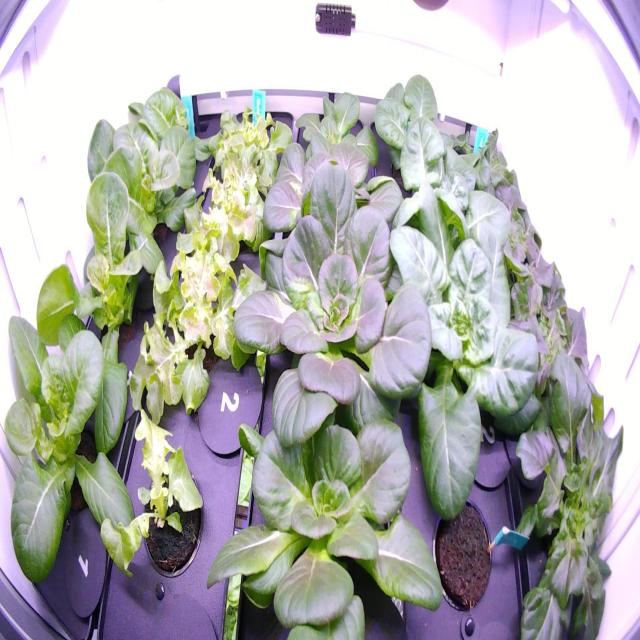pod: (423, 481, 500, 618)
young: (193, 370, 450, 640), (362, 189, 560, 536), (226, 149, 448, 457), (28, 155, 189, 460), (0, 284, 152, 596), (359, 116, 519, 312), (244, 123, 416, 276), (81, 110, 205, 249), (367, 66, 477, 199), (112, 57, 224, 170), (290, 80, 386, 192)
